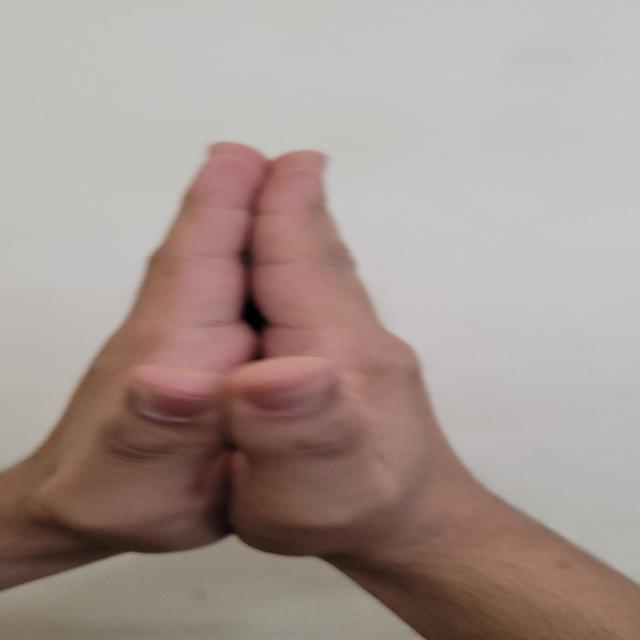Thank You: (1, 123, 508, 595)
